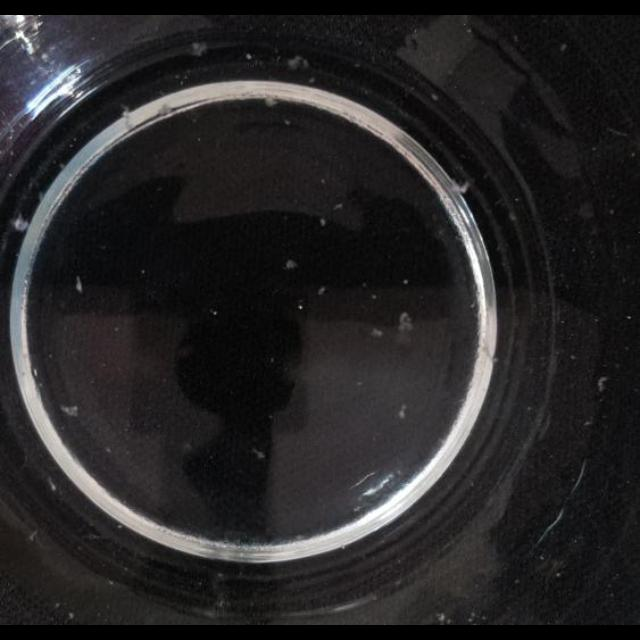Fibre: (286, 55, 310, 71), (398, 312, 414, 334), (120, 107, 136, 129), (12, 214, 30, 232), (450, 178, 468, 196), (60, 404, 80, 418), (190, 42, 207, 56), (74, 276, 84, 294), (264, 96, 278, 108), (397, 404, 407, 420)
microbeads: (597, 376, 609, 392), (285, 258, 297, 270), (370, 328, 382, 338), (333, 202, 343, 212), (430, 92, 440, 101), (559, 42, 567, 52), (318, 286, 327, 294), (469, 299, 476, 309), (319, 218, 327, 226), (370, 292, 378, 300), (308, 76, 316, 84), (245, 53, 253, 61), (105, 446, 112, 454), (402, 278, 410, 284), (210, 310, 218, 316), (356, 380, 362, 388), (68, 612, 74, 620), (140, 268, 146, 276), (609, 208, 615, 216)
